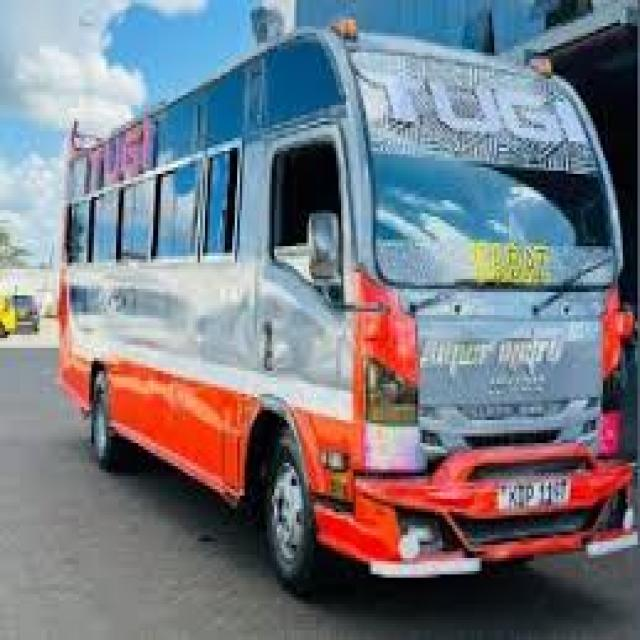bus: (47, 7, 640, 598)
